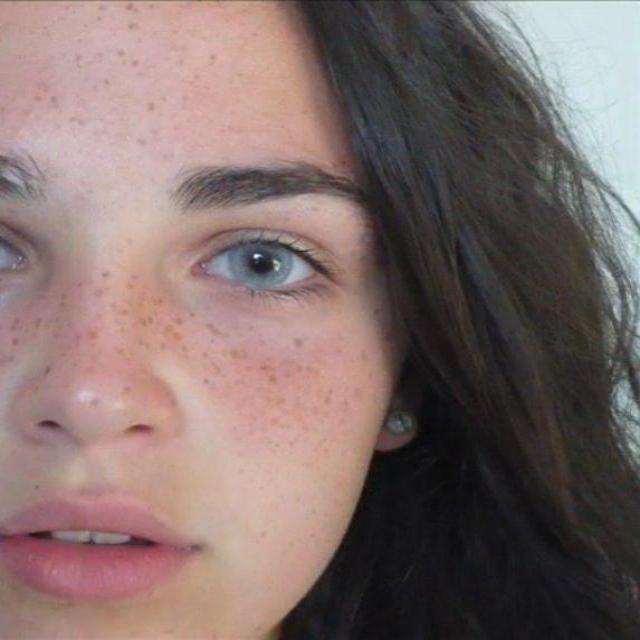freckle: (0, 278, 375, 451), (0, 0, 261, 155)
